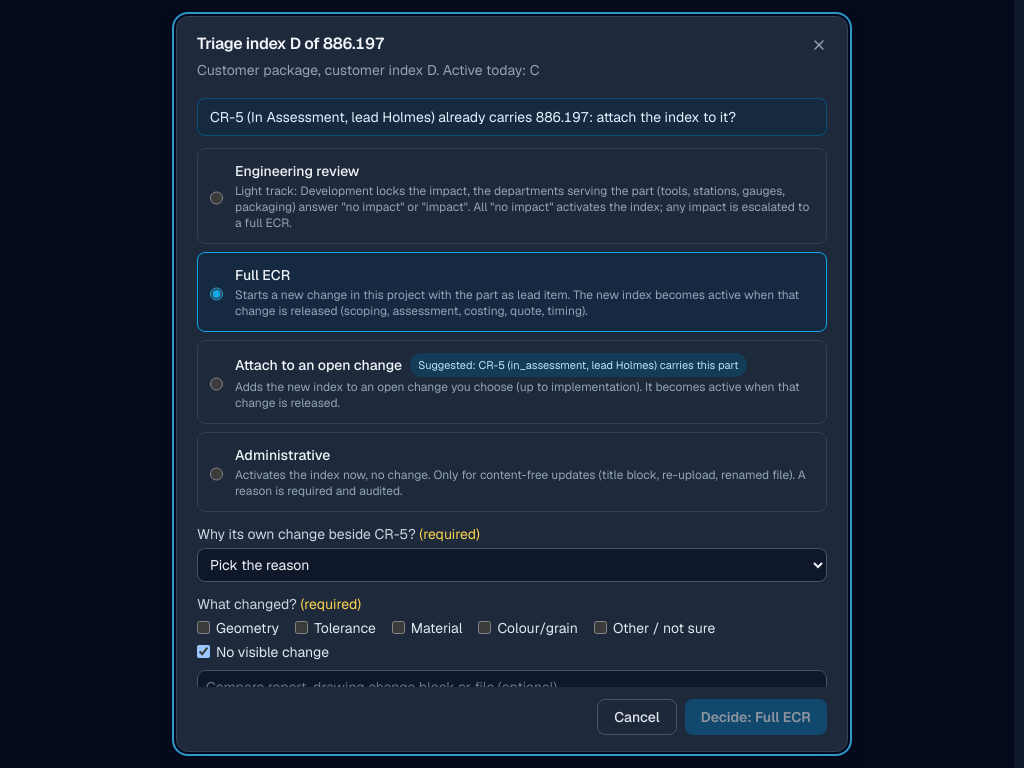
Test: RouteDialog (§1 intake) › full ECR beside a live change needs the reason pick
Earlier steps of the test are not shown.
Later steps or results of the test are not shown.
Expected: the button with test id "route-submit" is disabled, [685, 699, 827, 735]
Select "A separate topic from the live change" in the dropdown with test id "live-reason". click: (512, 565)
box: [197, 548, 827, 582]
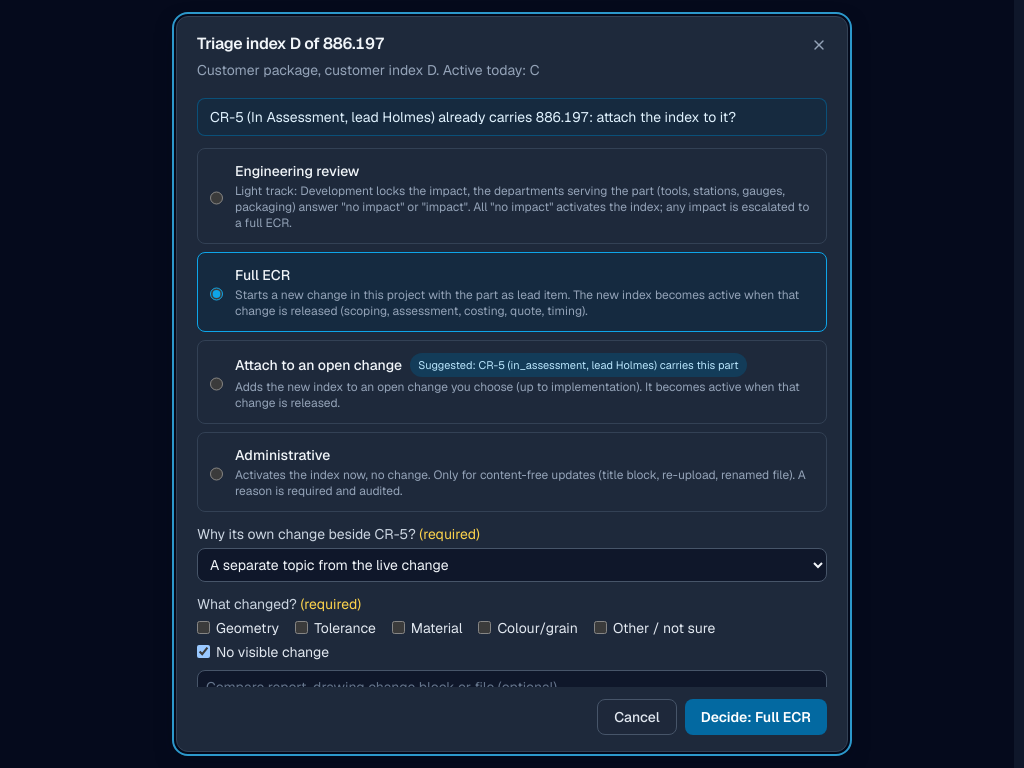
Result: the button with test id "route-submit" is enabled at [685, 699, 827, 735]
